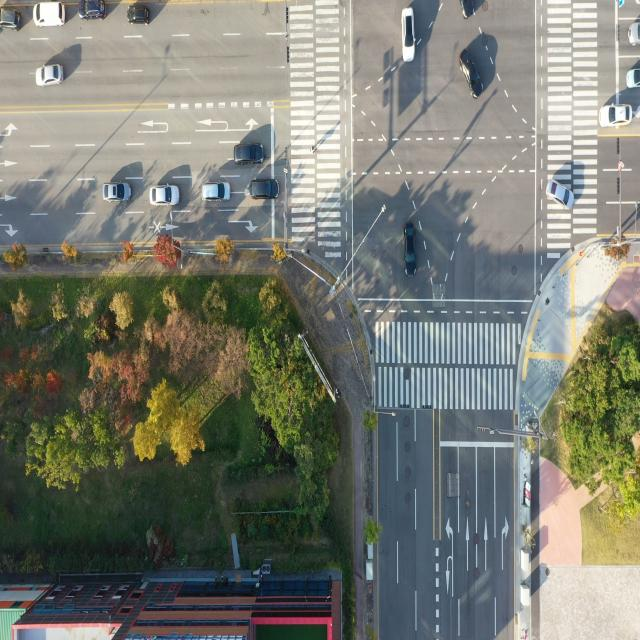car: (459, 50, 482, 100), (29, 2, 67, 29), (596, 102, 632, 128), (399, 5, 415, 62), (546, 176, 573, 209), (234, 143, 264, 166), (38, 65, 64, 89), (250, 178, 278, 200), (404, 223, 418, 267), (124, 3, 150, 26), (203, 181, 230, 202), (103, 182, 130, 203), (77, 0, 106, 19), (153, 185, 179, 206), (0, 6, 21, 31), (457, 0, 476, 21), (627, 20, 640, 45), (626, 64, 640, 85)
